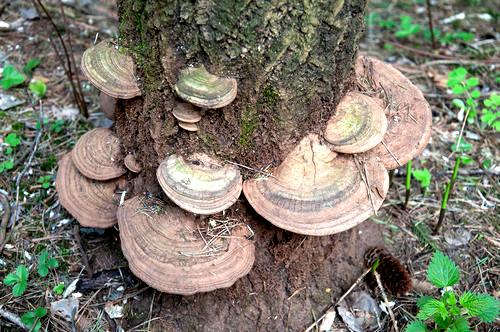Ganoderma - Fruit Body: (243, 139, 393, 238), (118, 220, 259, 297), (152, 153, 243, 216), (391, 56, 435, 173), (79, 38, 144, 102), (323, 93, 388, 153), (170, 66, 239, 114), (70, 127, 128, 180), (53, 182, 113, 231), (166, 106, 201, 132)
